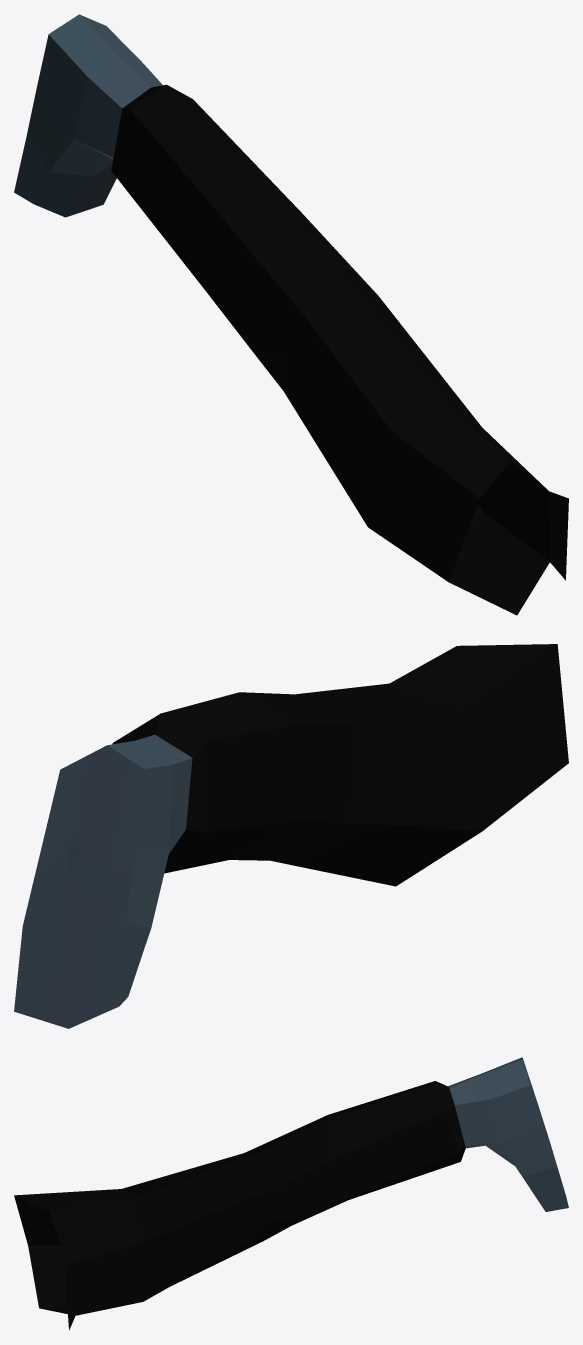
File: 253_enemy_cop_002_japan.gltf
The picture shows the model from 3 angles, top to bottom: view 1: azimuth 30°, elevation 25°; view 2: azimuth 150°, elevation 25°; view 3: azimuth 270°, elevation 25°; orthographic projection. The views are drawn at different scales.
Visible parts, largest first — view 1: enemy_cop_002_japan; view 2: enemy_cop_002_japan; view 3: enemy_cop_002_japan.
Boxes of the visible parts, box(x1,y1,x2,y2) form: enemy_cop_002_japan: box(14, 14, 568, 615); enemy_cop_002_japan: box(14, 644, 568, 1028); enemy_cop_002_japan: box(14, 1057, 568, 1330).
Size of the model in its own units: 0.4544 by 0.8483 by 1.87.
Materials: 1 (1 with a texture image).
